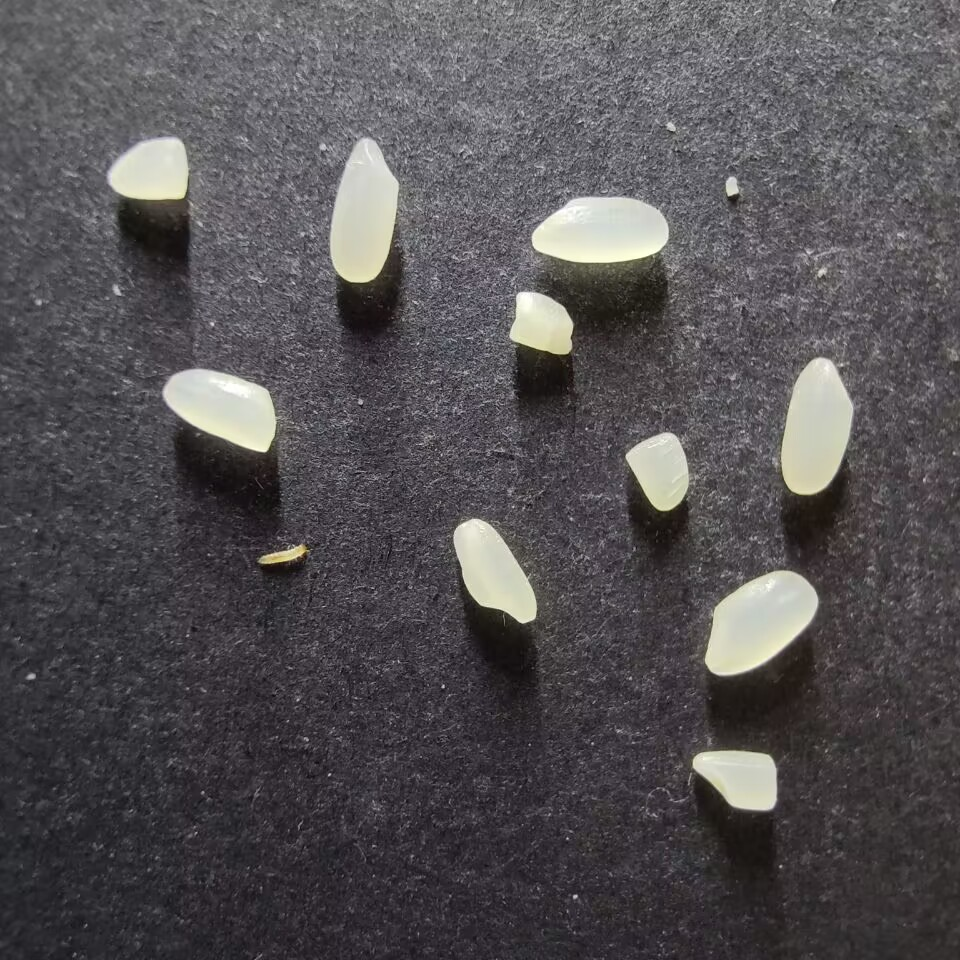broken: (161, 367, 276, 452), (690, 749, 778, 812), (623, 432, 690, 511), (106, 136, 188, 200), (508, 291, 575, 356)
others: (256, 541, 309, 567)
rice: (703, 569, 817, 676), (328, 136, 399, 283), (779, 356, 853, 495), (530, 195, 669, 264), (452, 517, 537, 624)
